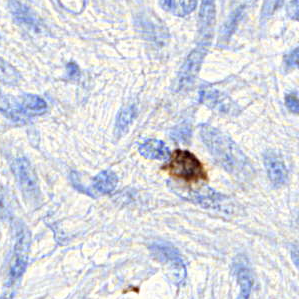Lymphocyte: (166, 149, 209, 186)
